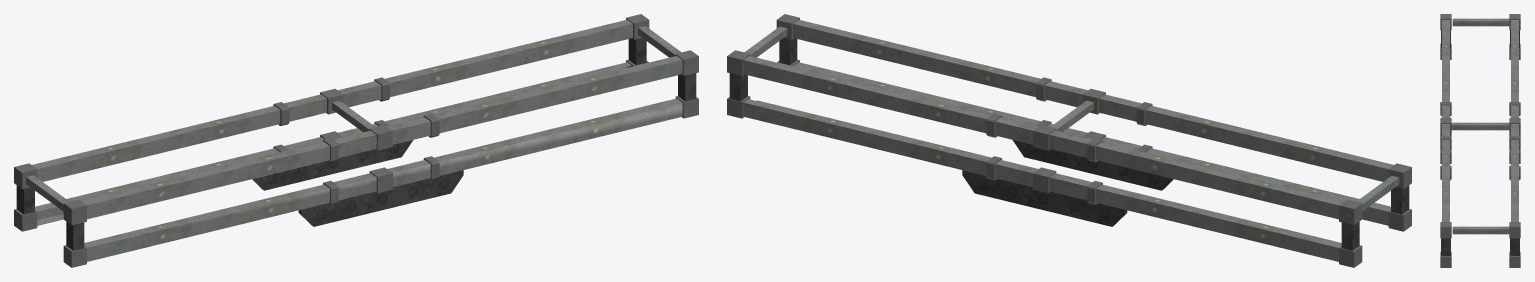
File: Ob_ScafRailSupport_RC.fbx
The picture shows the model from 3 angles, left to right: view 1: azimuth 30°, elevation 25°; view 2: azimuth 150°, elevation 25°; view 3: azimuth 270°, elevation 25°; orthographic projection. The views are drawn at different scales.
Parts seen in each view (by area): view 1: Ob_ScafRailSupport_RC; view 2: Ob_ScafRailSupport_RC; view 3: Ob_ScafRailSupport_RC.
Boxes of the visible parts, x1,y1,x2,y2 form: Ob_ScafRailSupport_RC: (14, 14, 698, 267); Ob_ScafRailSupport_RC: (727, 14, 1411, 267); Ob_ScafRailSupport_RC: (1440, 14, 1520, 267).
Size of the model in its own units: 2050 by 249 by 326.
